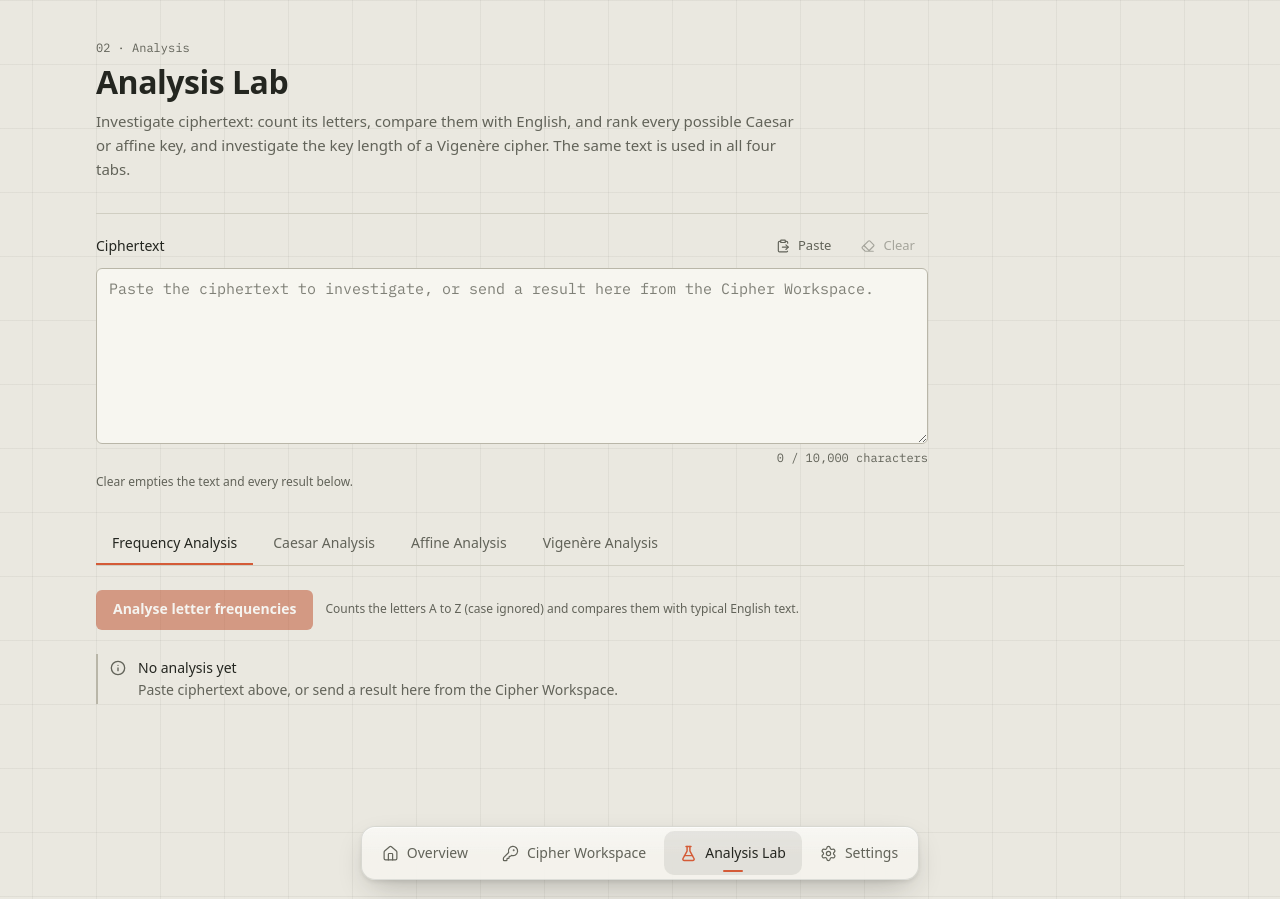
Scenario: investigating the key length › posts the text, then shows the index of coincidence with its reading and reference values
Step 1. Click the tab "Vigenère Analysis" → (600, 544), box [527,523,674,565]
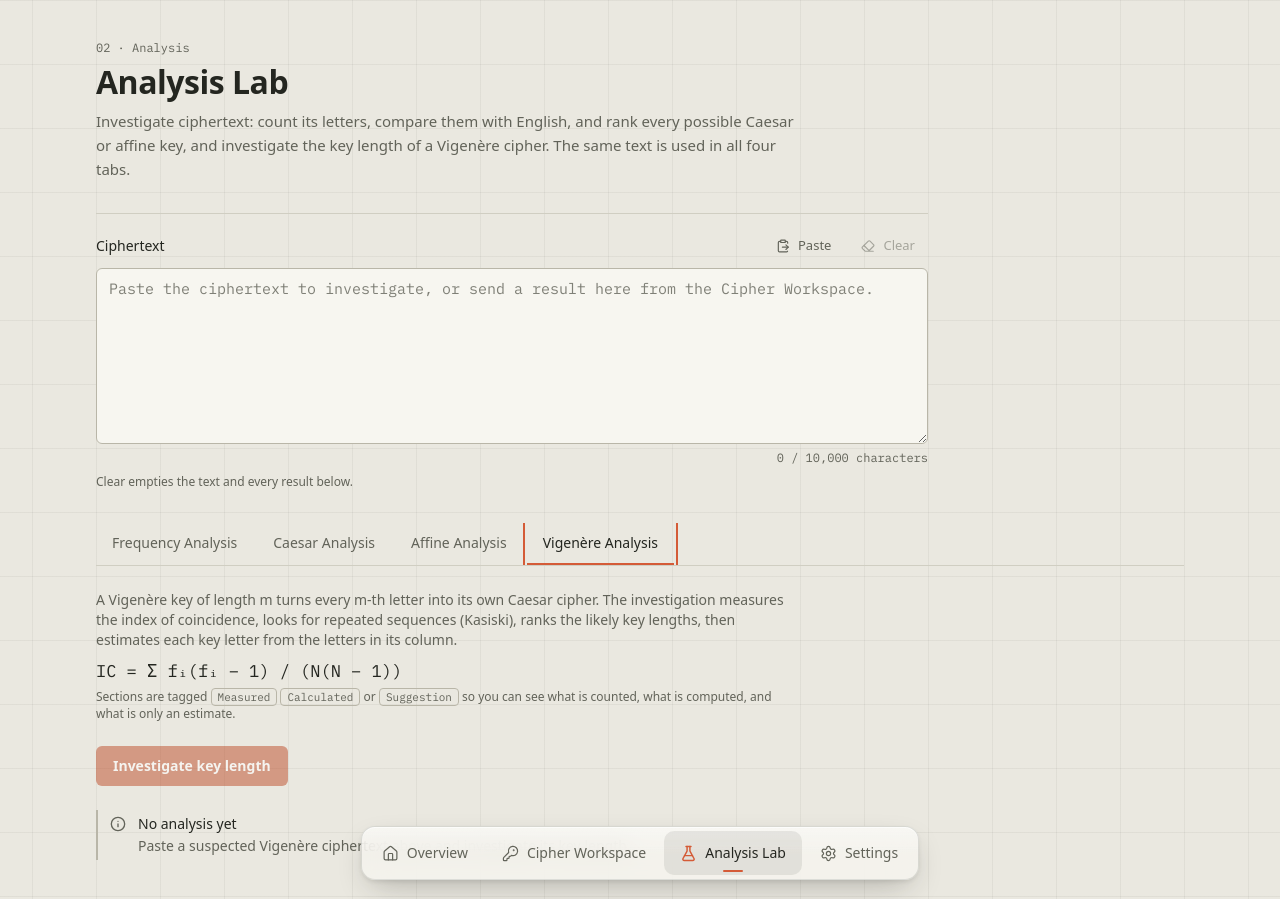
Step 2. Clear the text box labelled "Ciphertext" → (512, 356), box [96,268,928,444]
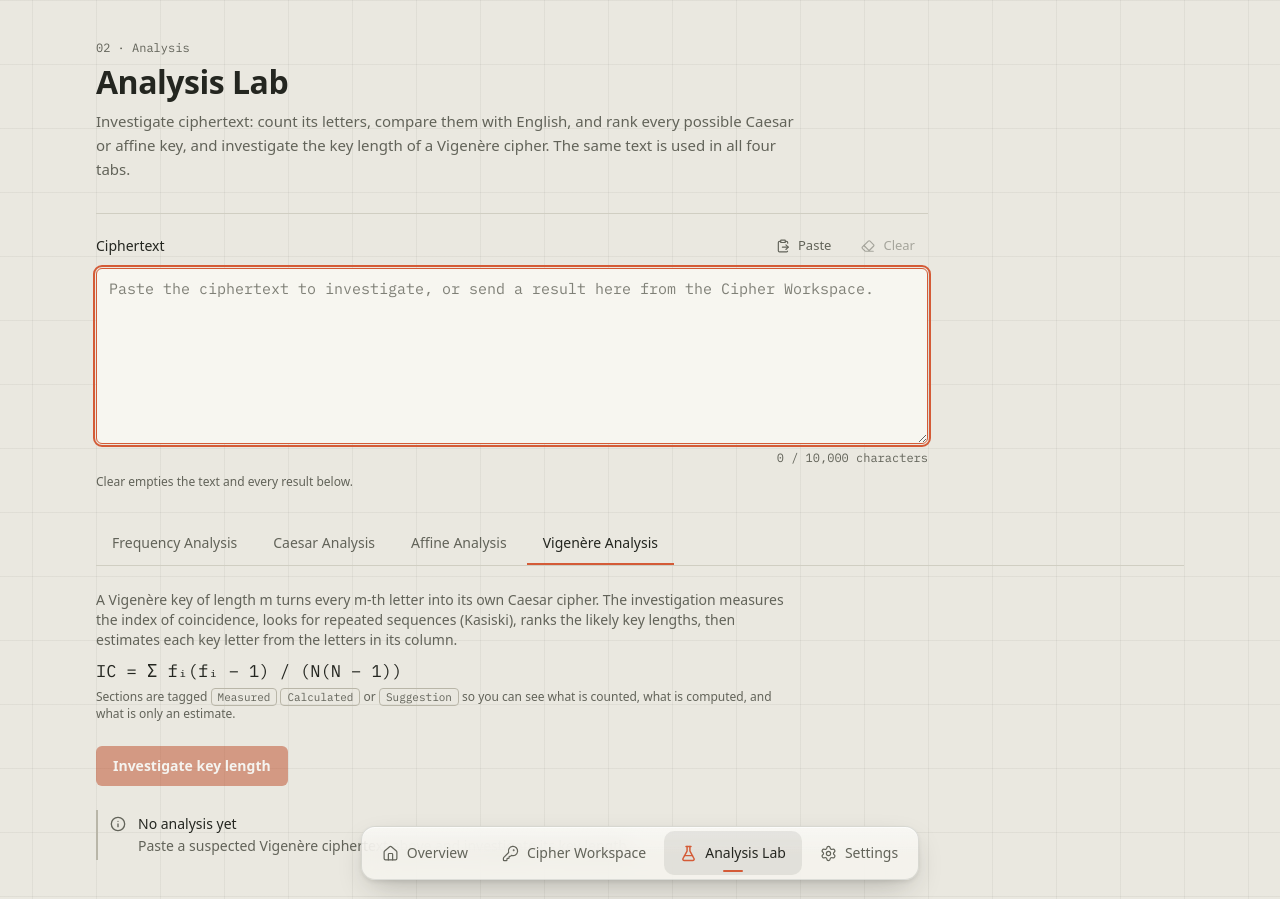
Step 3. Type keys "Lxfopv ef Rnhr lxfopv ef rnhr"
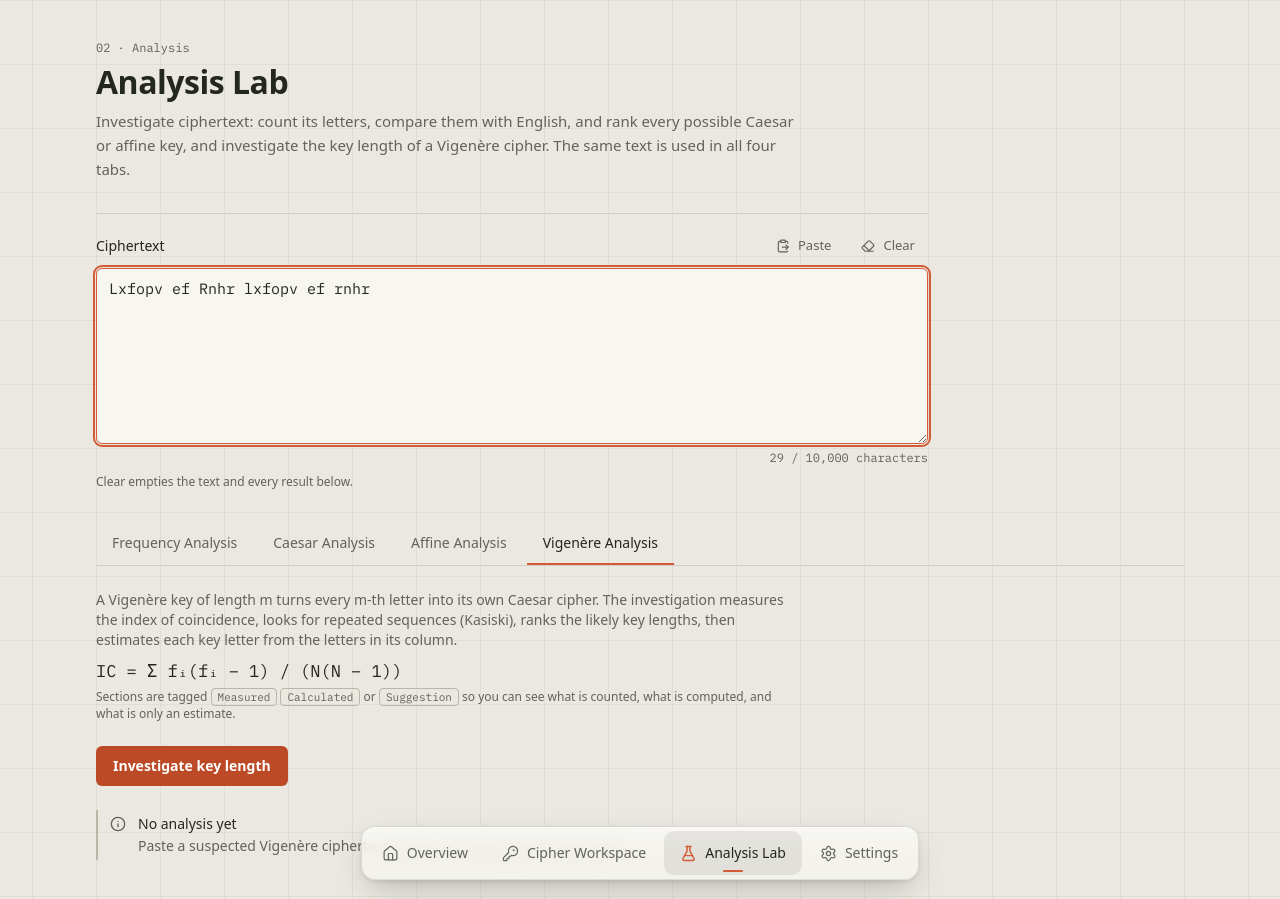
Step 4. Click the button "Investigate key length" → (192, 766), box [96,746,288,786]
(page scrolled)
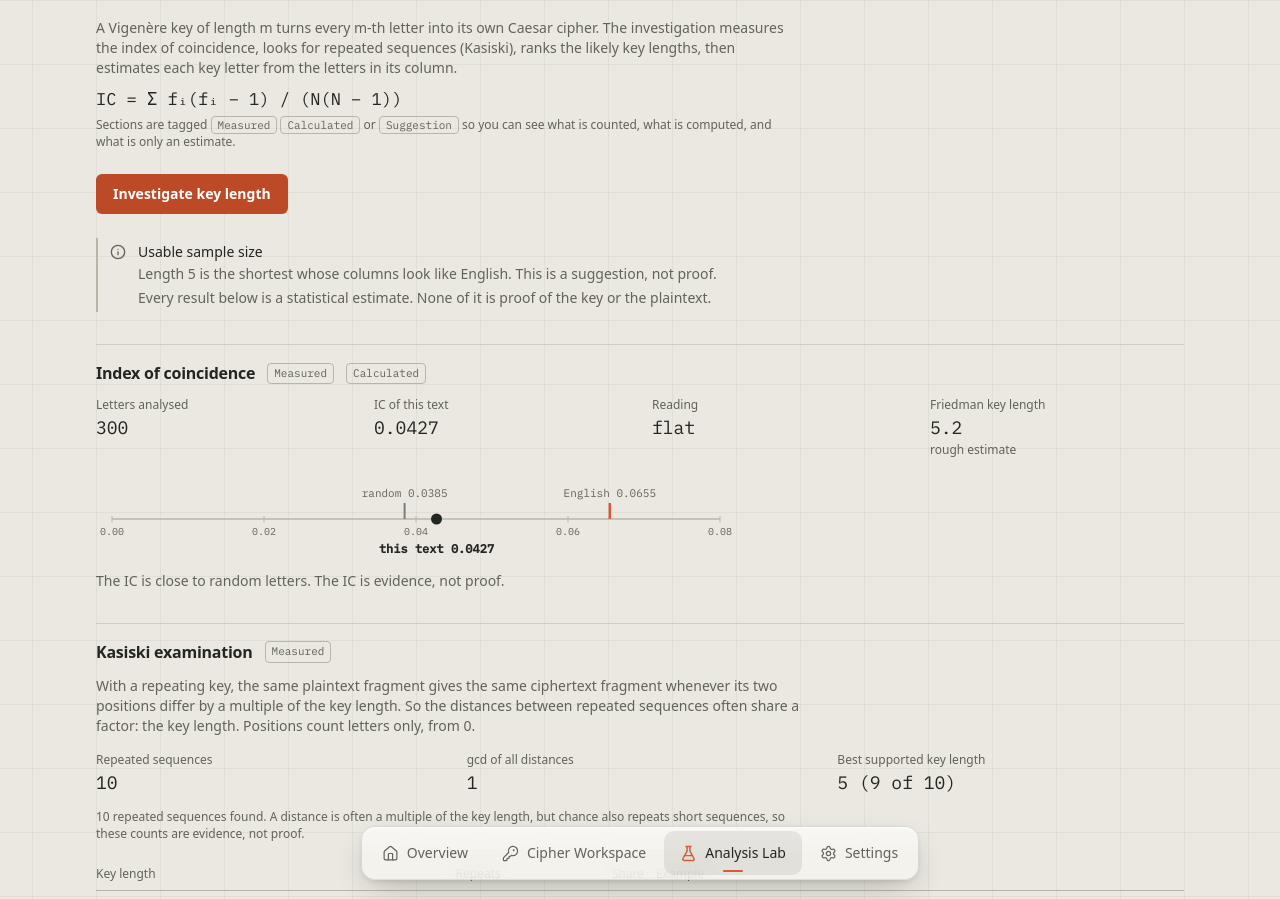
Expected: the text with test id "ic-value" reads "0.0427", [374,416,439,439]
Expected: the text with test id "ic-reading" reads "flat", [652,416,695,439]
Expected: the text "The IC is close to random letters" is shown, [96,571,504,590]
